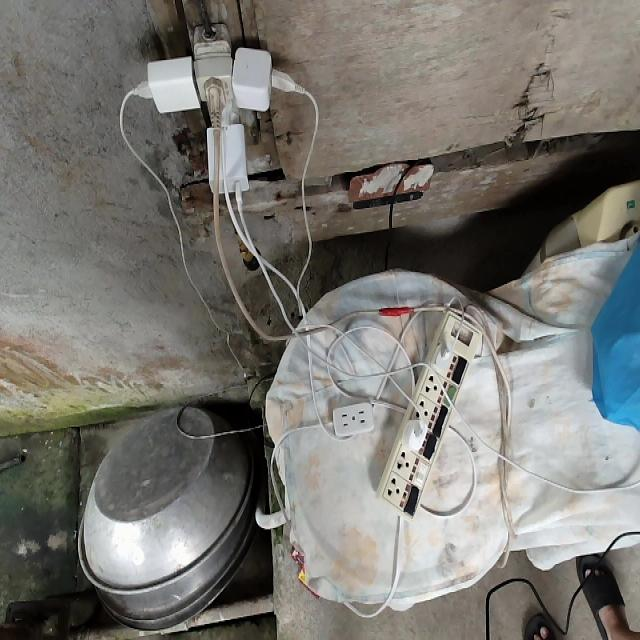-: (133, 16, 289, 201)
